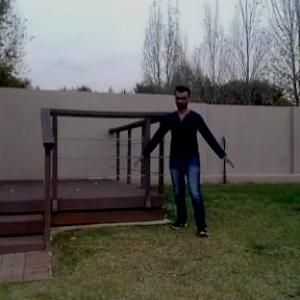land: (132, 75, 236, 254)
